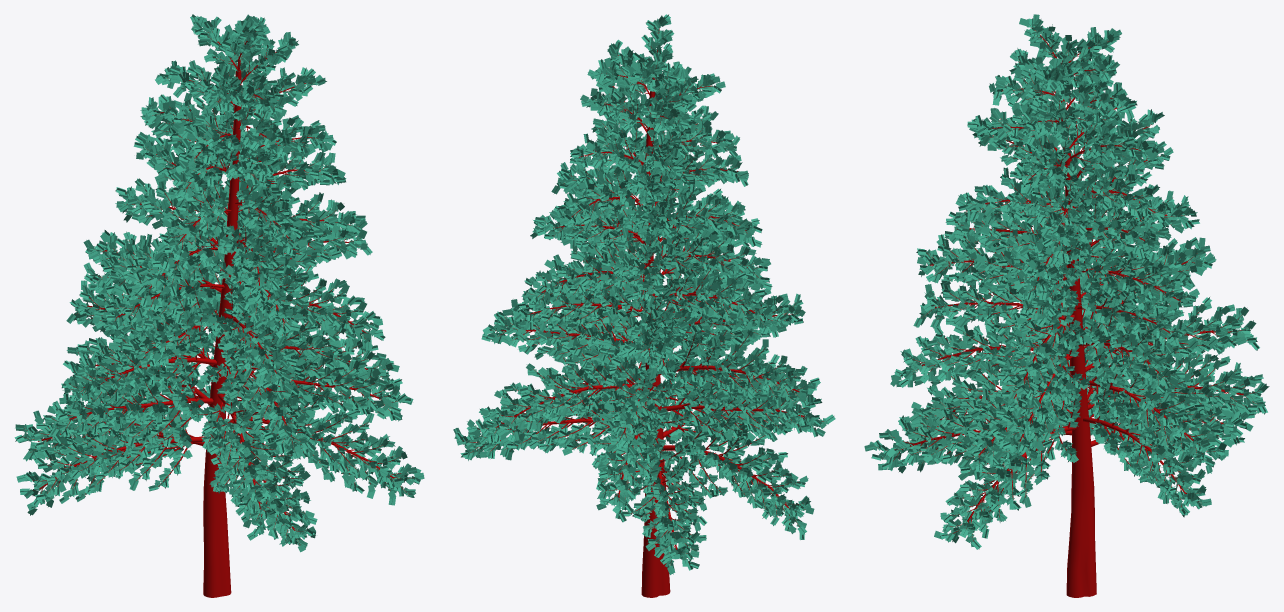
Rendered from ARBOL.glb.
3 renders of one model, left to right at view 1: azimuth 30°, elevation 25°; view 2: azimuth 150°, elevation 25°; view 3: azimuth 270°, elevation 25°, orthographic. The views are drawn at different scales.
Visible parts, largest first — view 1: Foliage001; view 2: Foliage001; view 3: Foliage001.
Boxes of the visible parts, <box> form: Foliage001: <box>14,14,424,597</box>; Foliage001: <box>453,14,835,597</box>; Foliage001: <box>864,14,1269,597</box>.
Size of the model in its own units: 406 by 680 by 427.
